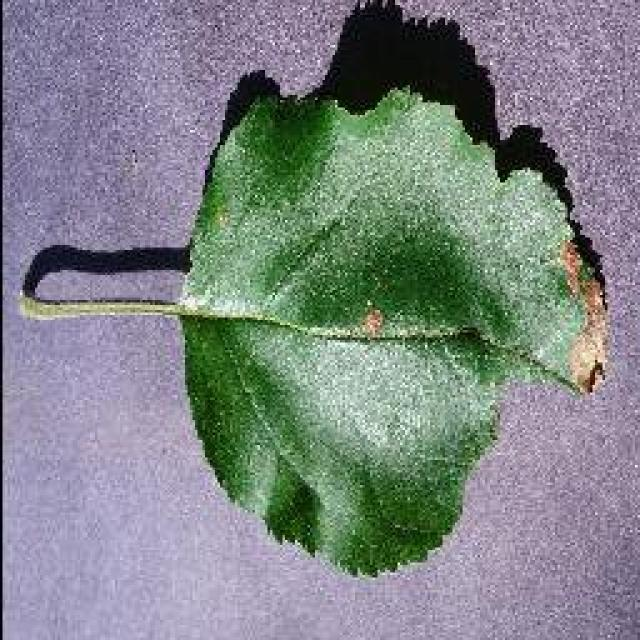Black_rot: (18, 0, 610, 580)
